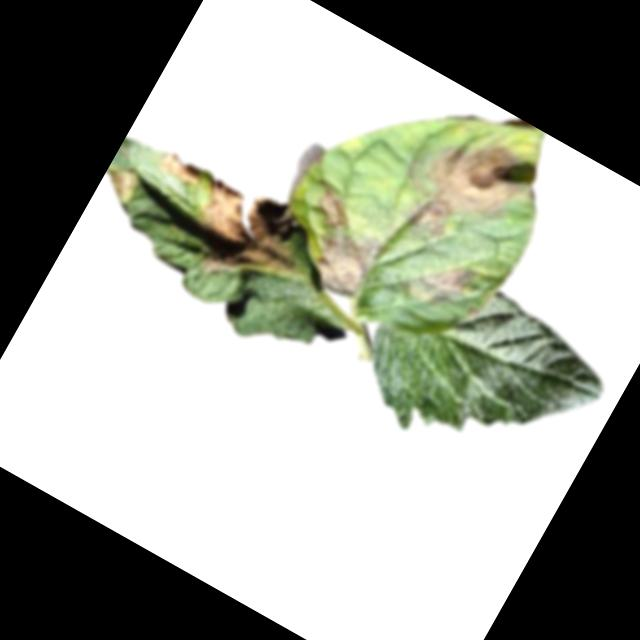Late_blight: (386, 110, 551, 272), (174, 168, 323, 311), (298, 211, 390, 305), (396, 241, 481, 324), (153, 143, 209, 192), (95, 156, 146, 209), (308, 184, 356, 231)
